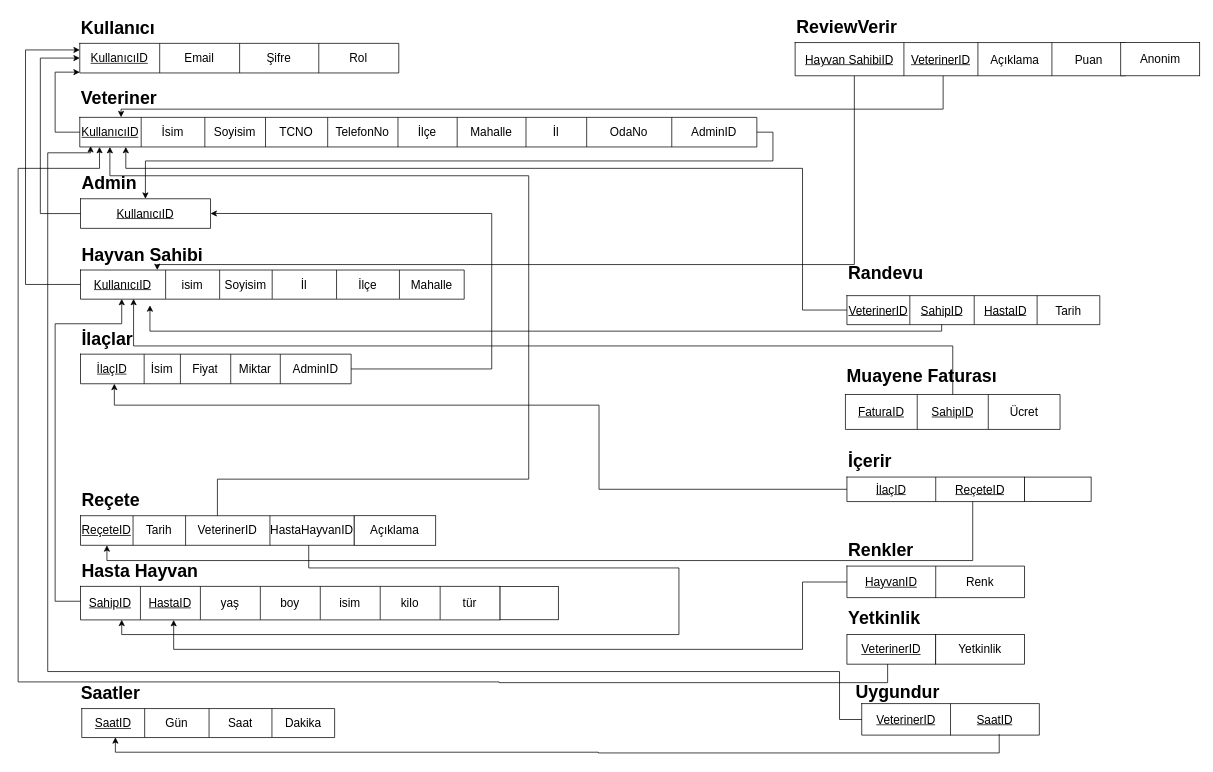
Some shapes in this 1213 by 772 pixel diagram are drawn without their labels. Each missing label, with the centre of its shape:
cinsiyet: pixel 528 603
Doz: pixel 1057 488
